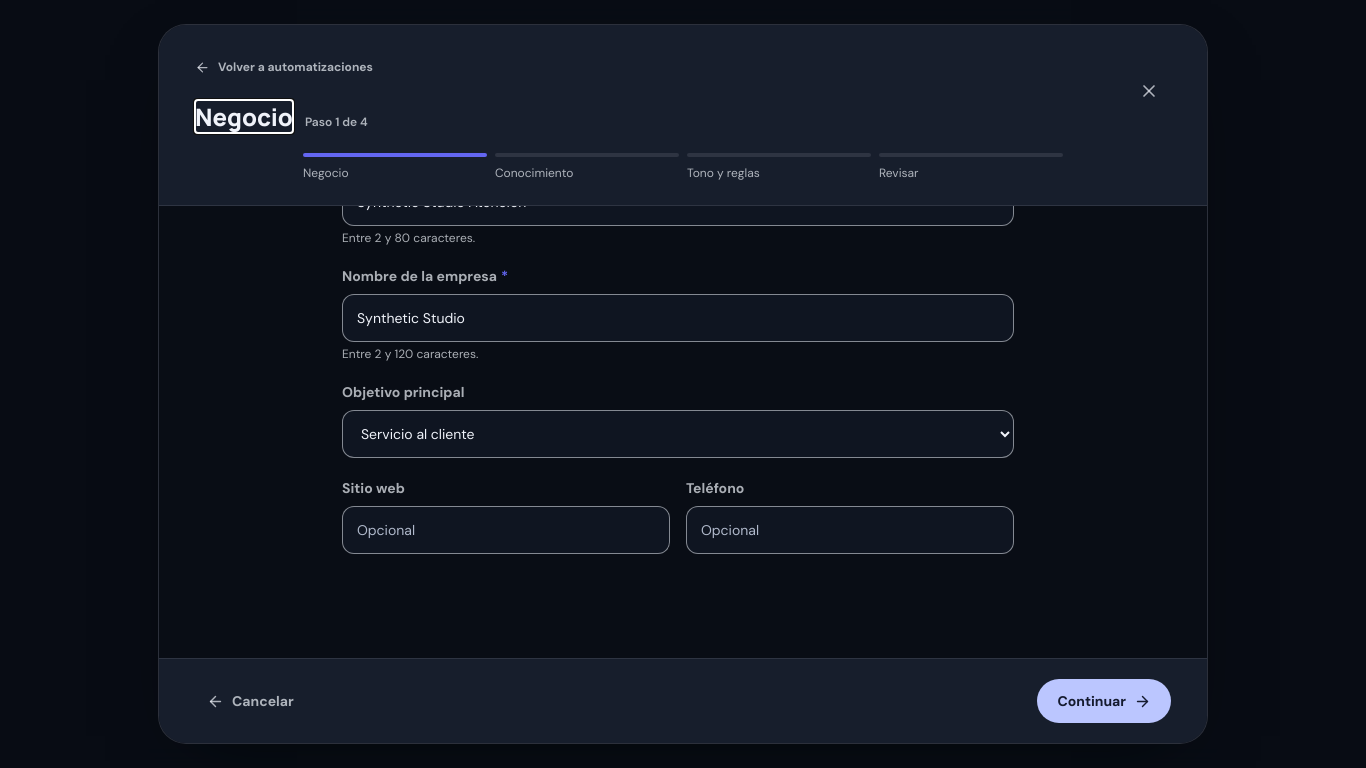
real component, synthetic services only › blocks advancing with an invalid website and displays an associated error on blur
The image size is (1366, 768).
(page scrolled)
Type "not-a-url" into the field labelled "Sitio web" at (506, 530), box [342,506,670,554]
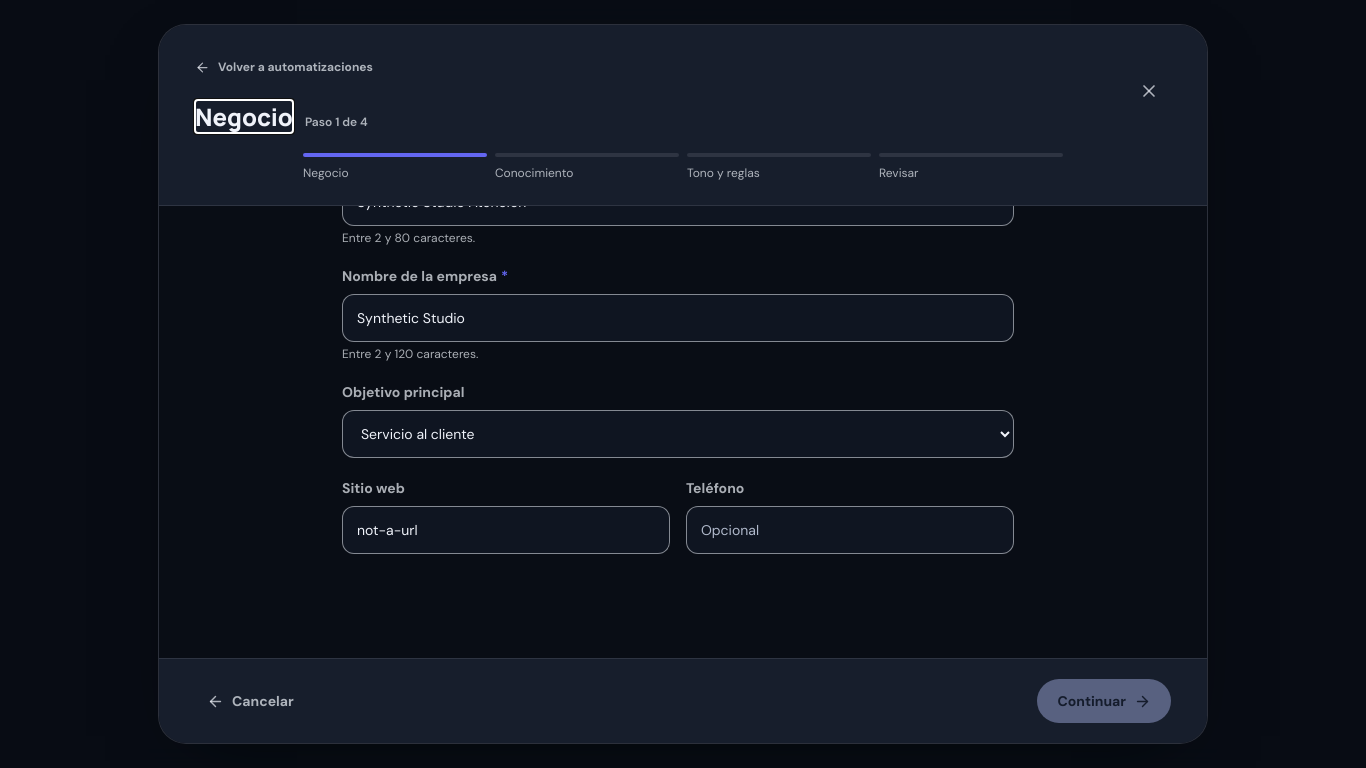
Check: the button "Continuar" is disabled, box [1037,679,1171,723]
Leave the field labelled "Sitio web", box [342,506,670,554]
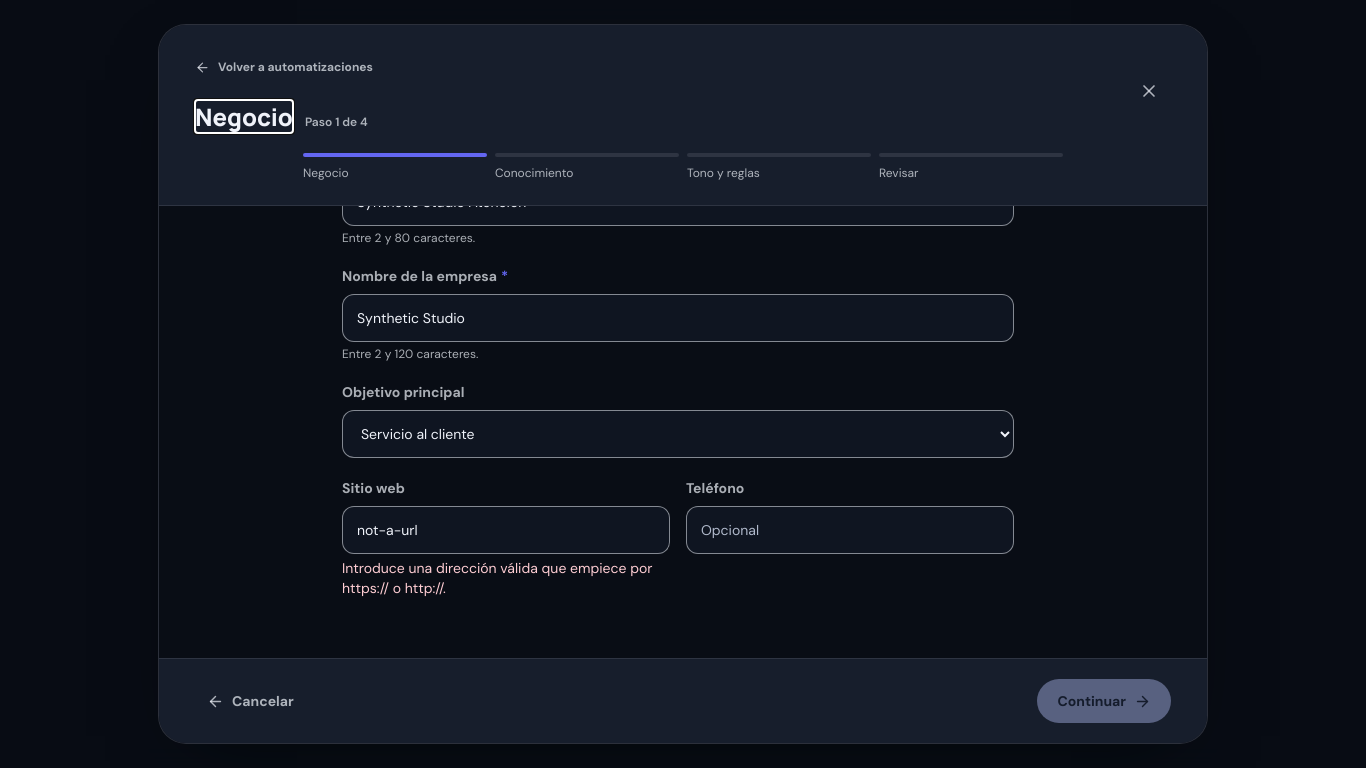
Replace the text in the field labelled "Sitio web" with " https://example.test " at (506, 530), box [342,506,670,554]
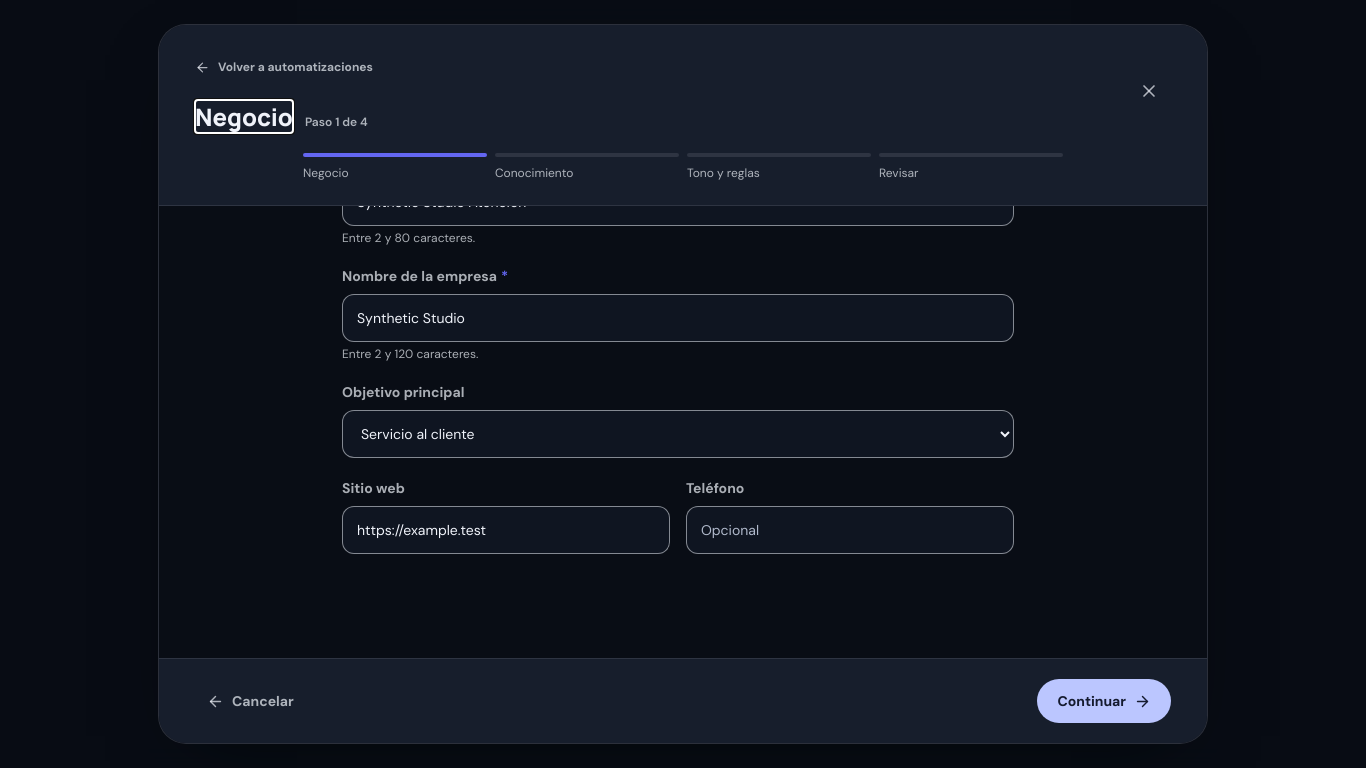
Check: the button "Continuar" is enabled, box [1037,679,1171,723]
Leave the field labelled "Sitio web", box [342,506,670,554]
Check: the field labelled "Sitio web" does not have attribute aria-invalid, box [342,506,670,554]
